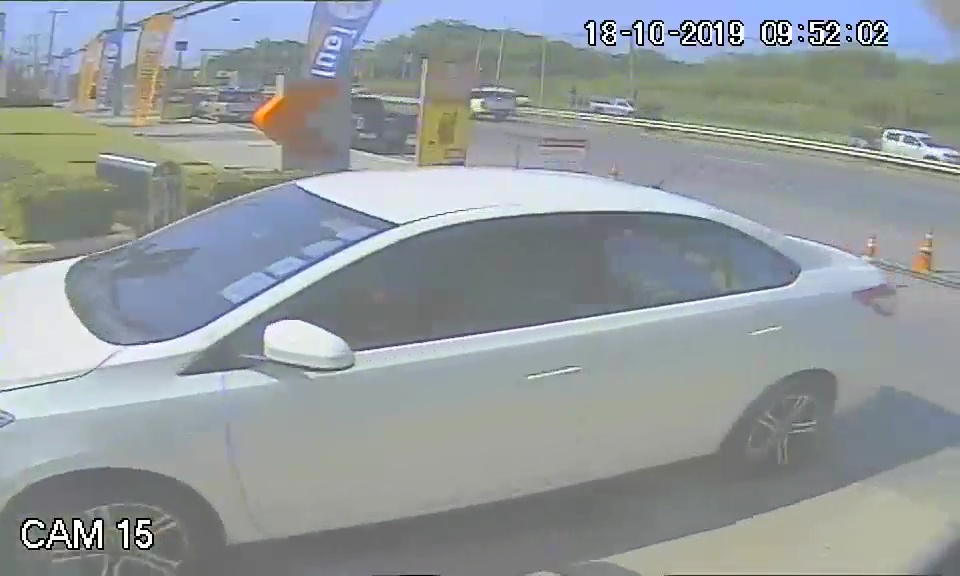sedan: (8, 163, 900, 507)
